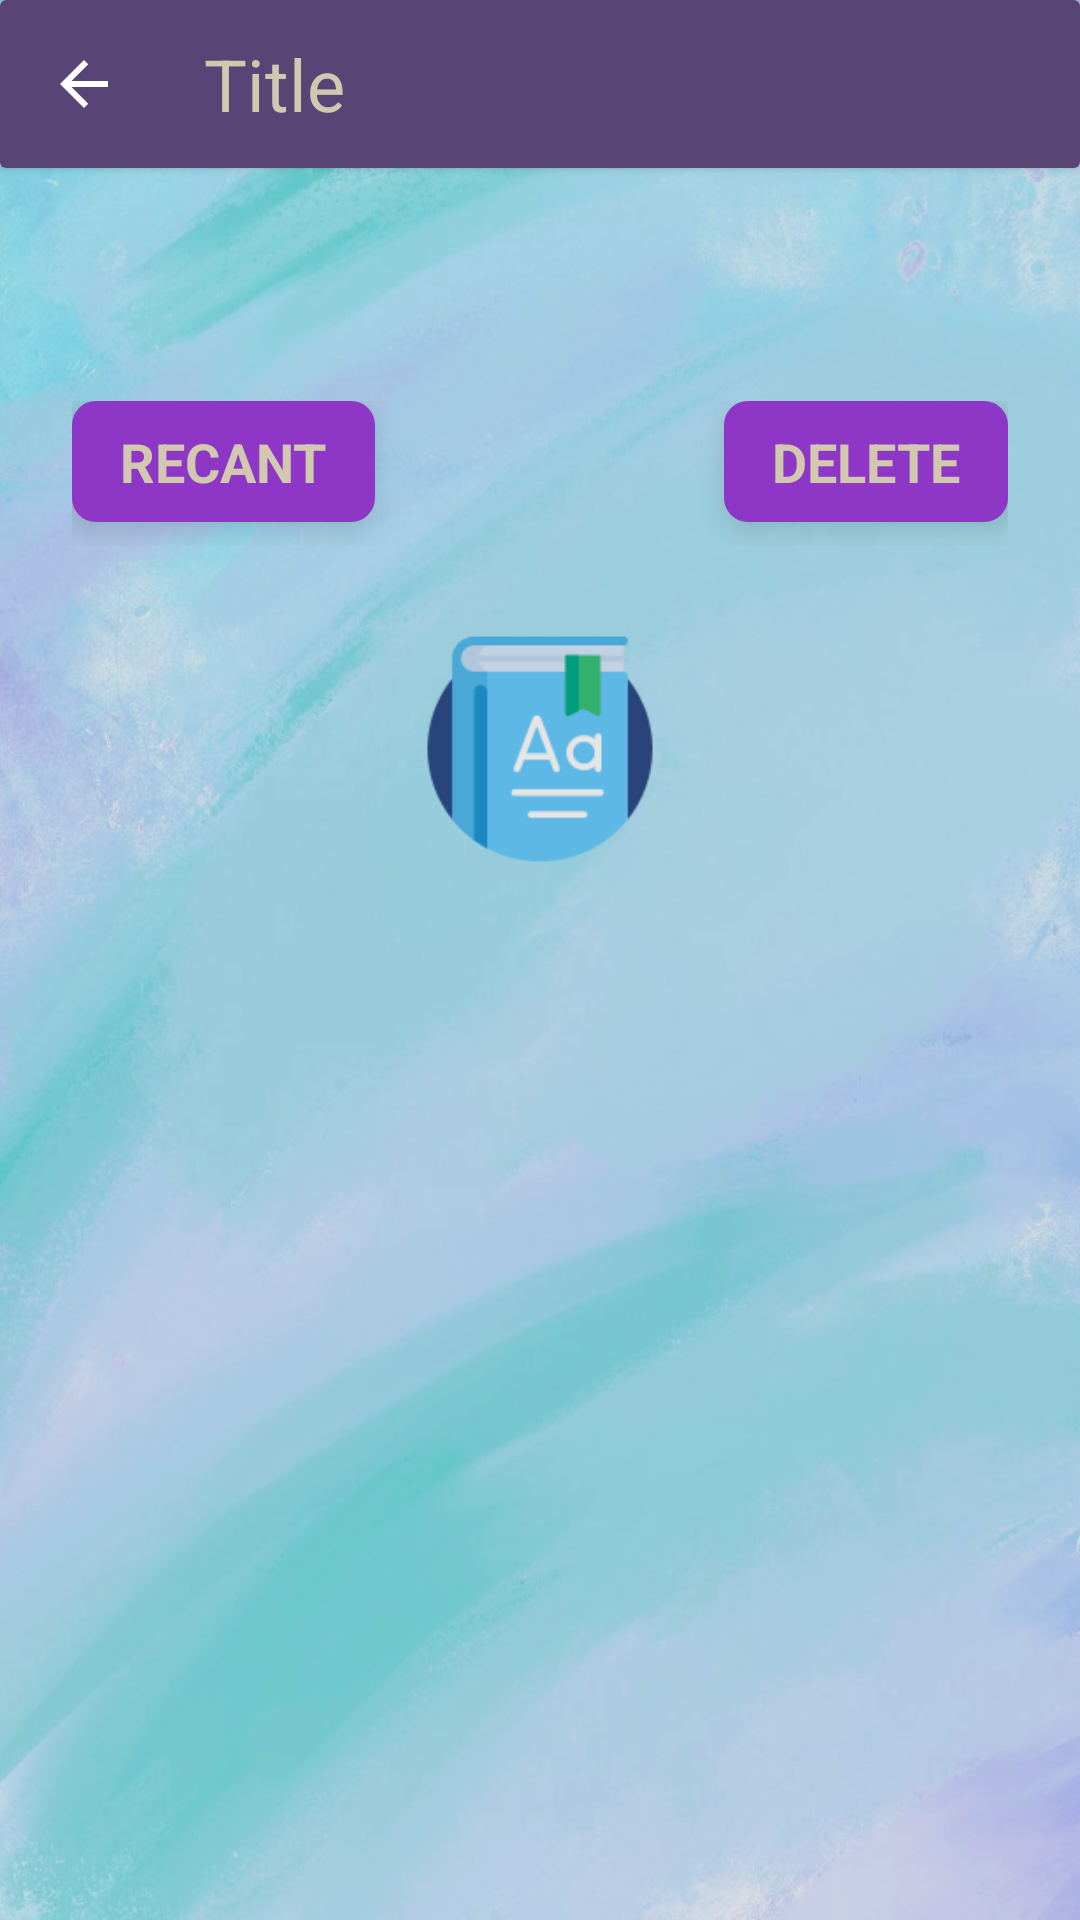

Screen size 1080*1920. Icon name, then its center in pixels as [x,y]:
day night back: [84,84]
